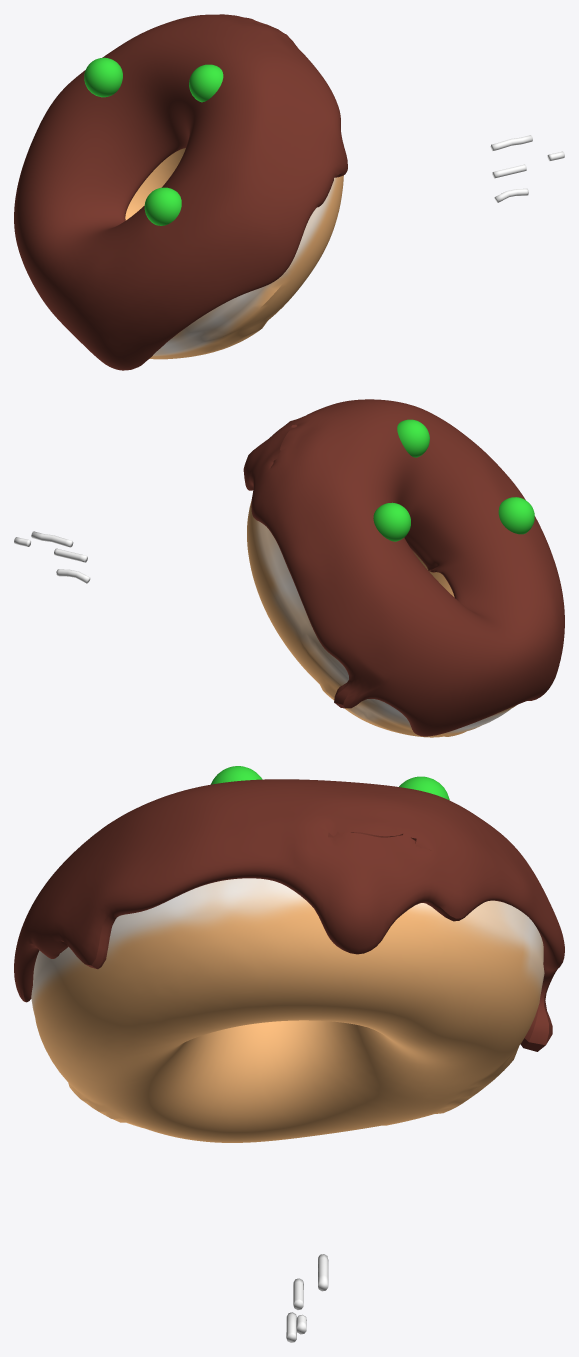
Rendered from donut.glb.
The picture shows the model from 3 angles, top to bottom: view 1: azimuth 30°, elevation 25°; view 2: azimuth 150°, elevation 25°; view 3: azimuth 270°, elevation 25°; orthographic projection. The views are drawn at different scales.
Parts seen in each view (by area): view 1: icing, donut, Sphere.002, Sphere.001, Sphere; view 2: icing, donut, Sphere.002, Sphere.001, Sphere; view 3: donut, icing.
Part boxes in pixels (left/top/right/bottom): icing: left=14, top=14, right=347, bottom=370; donut: left=125, top=148, right=343, bottom=359; Sphere.002: left=84, top=57, right=122, bottom=97; Sphere.001: left=144, top=187, right=181, bottom=225; Sphere: left=189, top=64, right=223, bottom=102; icing: left=243, top=399, right=564, bottom=736; donut: left=247, top=501, right=516, bottom=737; Sphere.002: left=373, top=502, right=410, bottom=541; Sphere.001: left=498, top=497, right=534, bottom=534; Sphere: left=397, top=419, right=429, bottom=457; donut: left=31, top=878, right=544, bottom=1142; icing: left=14, top=779, right=564, bottom=1051.
Size of what is drawn, in the model's own units: 0.1686 by 0.0876 by 0.1045.
Materials: 4 (1 with a texture image).
